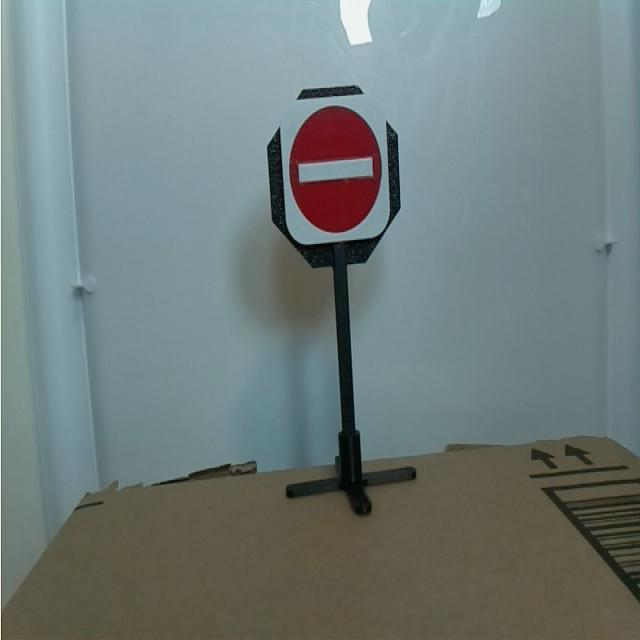sign_noentry: (279, 95, 394, 243)
